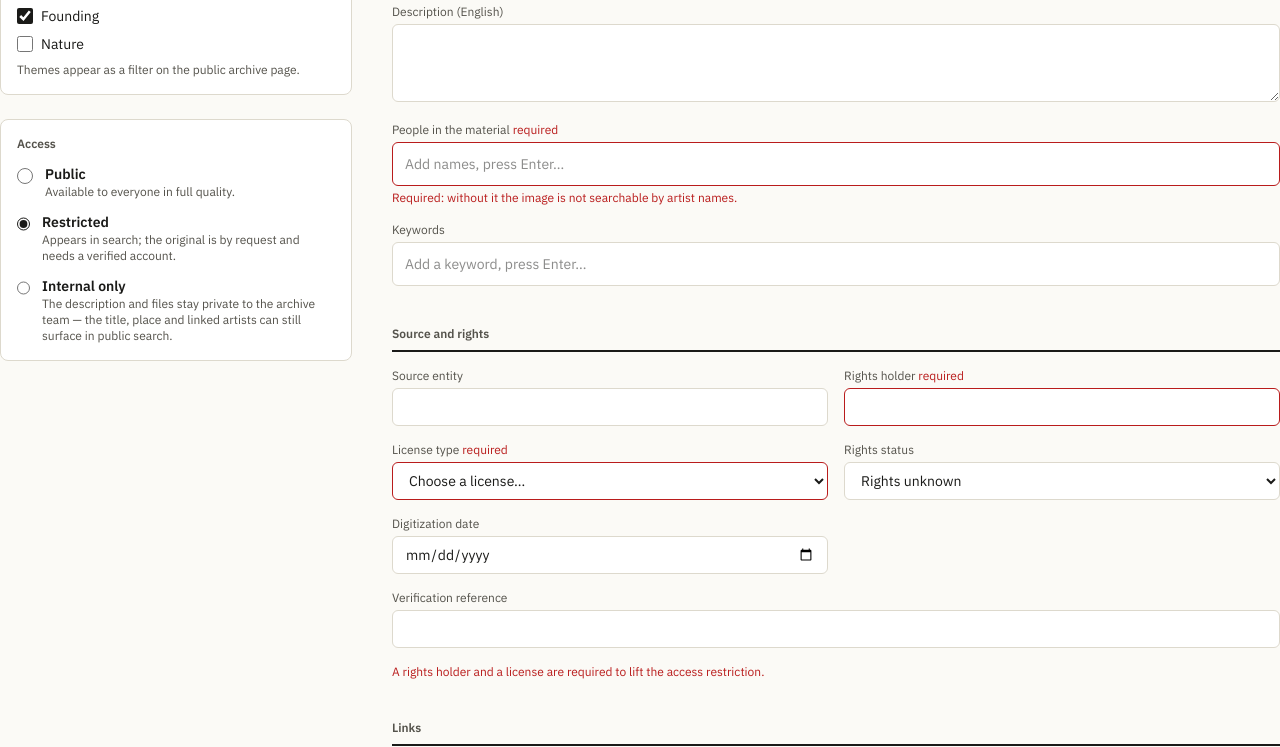
it: ArchiveEditPage (edit) › draft mode (proposals.submit) › saves the fields section through saveDraft instead of the direct endpoint
(page scrolled)
Select "CC0" in the dropdown with test id "license" at (610, 481), box [392,462,828,500]
(page scrolled)
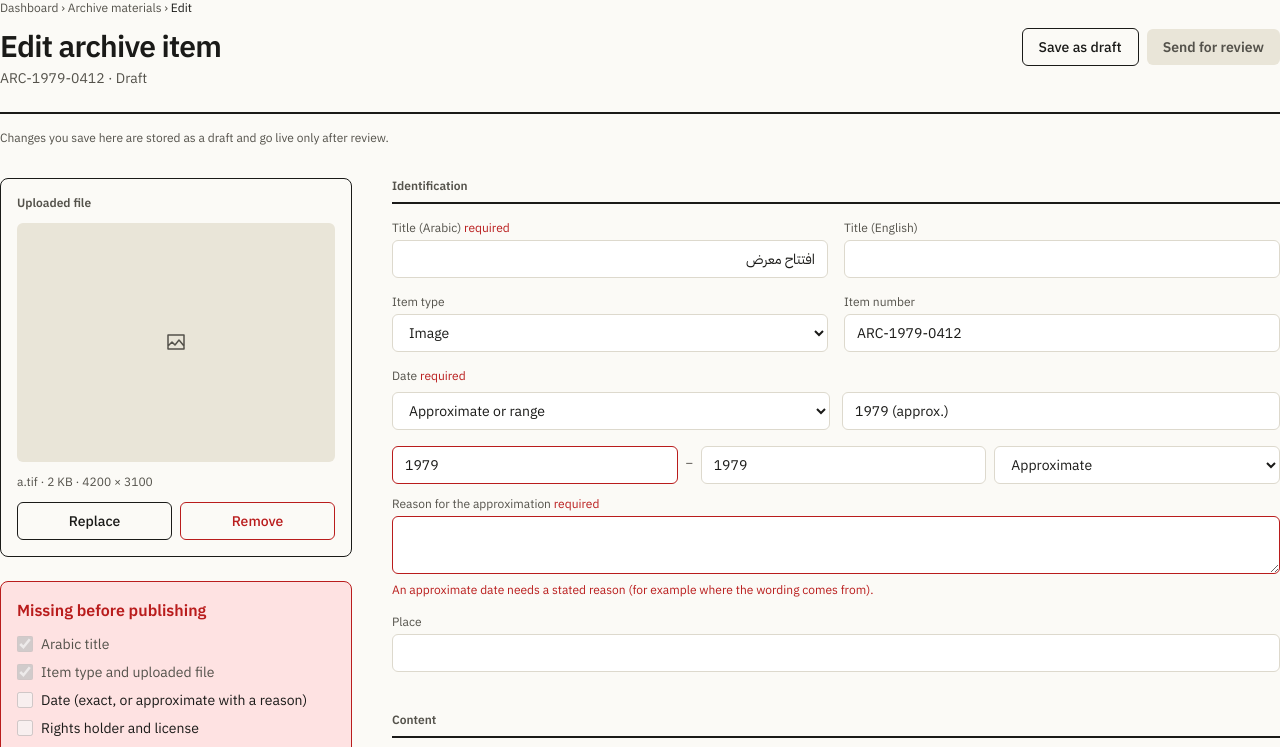
Click the button with test id "save-draft".
click(1080, 47)  # box [1022,28,1139,66]
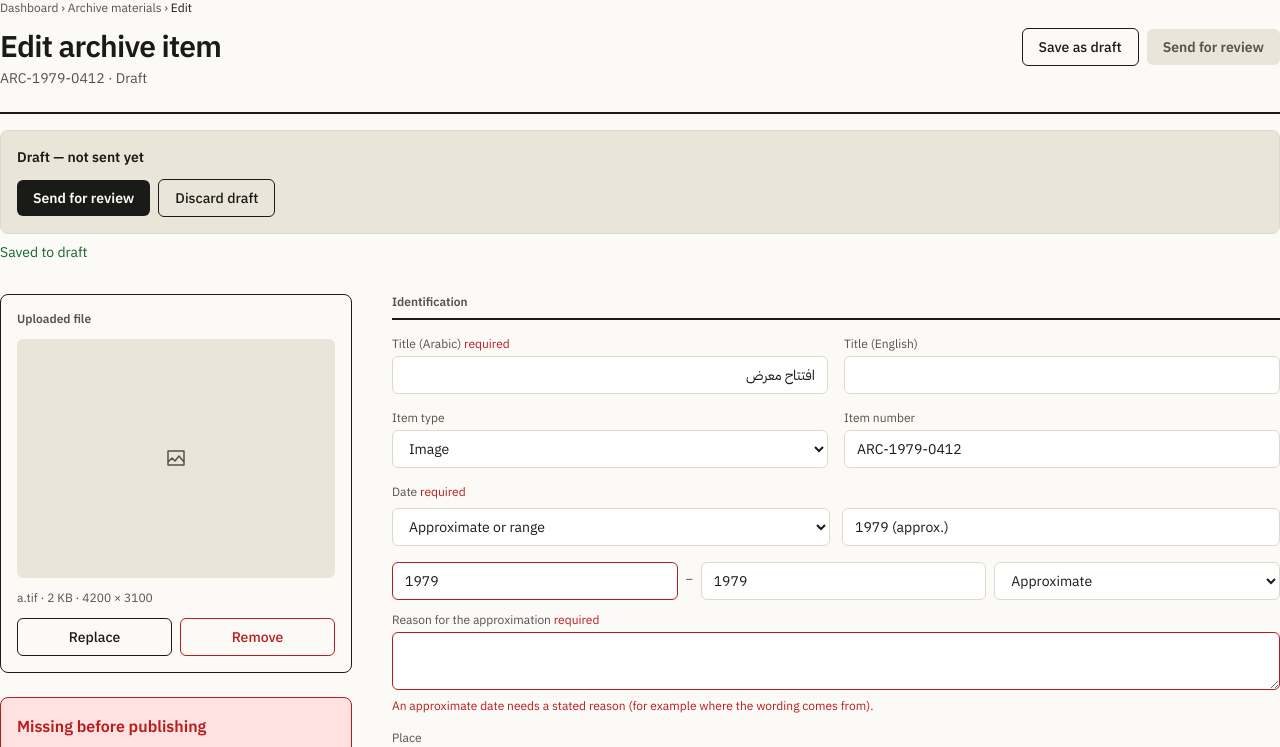
Expected: the text with test id "saved-feedback" reads "Saved to draft", [0,243,88,261]
